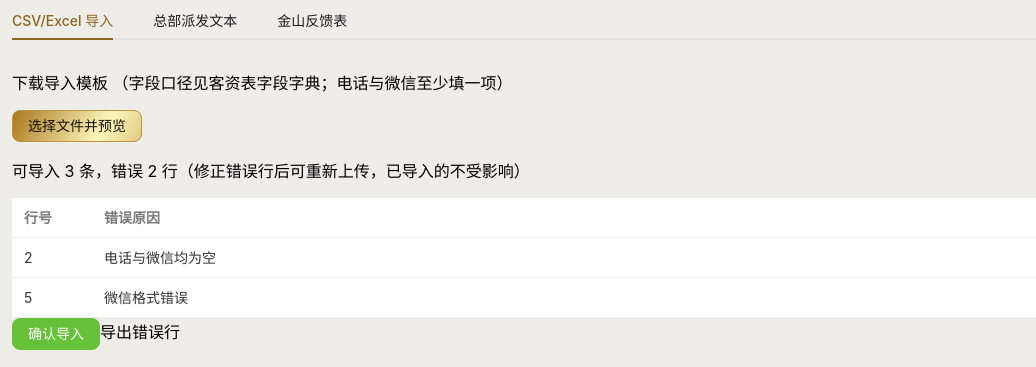
Test: LeadImportView 客资导入（P3-01 前端） › 确认导入后清空预览并显示结果
Click the button "确认导入": {"x": 56, "y": 334} left=12, top=318, right=100, bottom=350
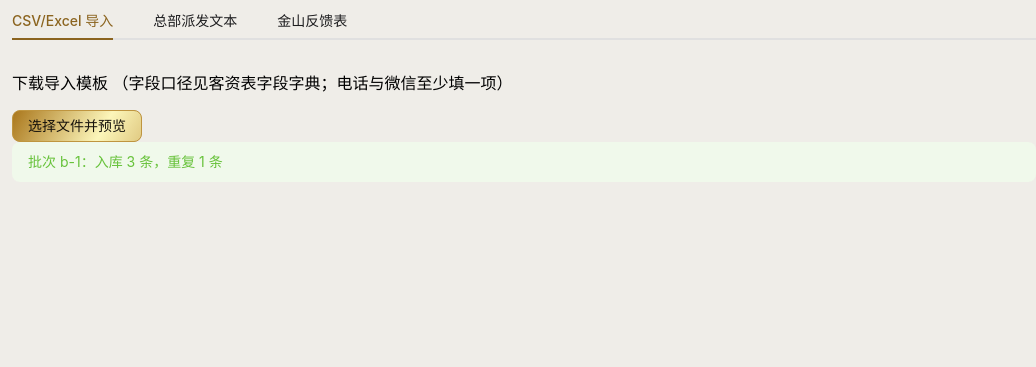
Result: the text "确认导入" is gone
Result: the text "批次 b-1" is shown at left=28, top=153, right=223, bottom=170
Result: the text "入库 3 条" is shown at left=28, top=153, right=223, bottom=170
